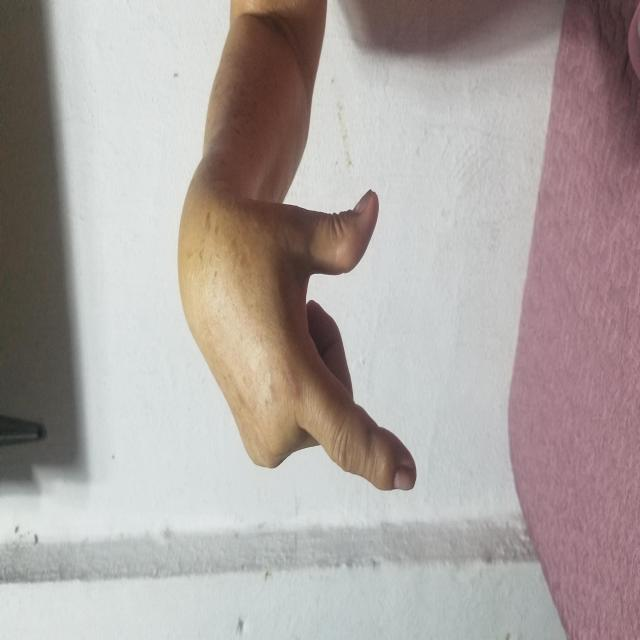Q: (145, 210, 454, 418)
